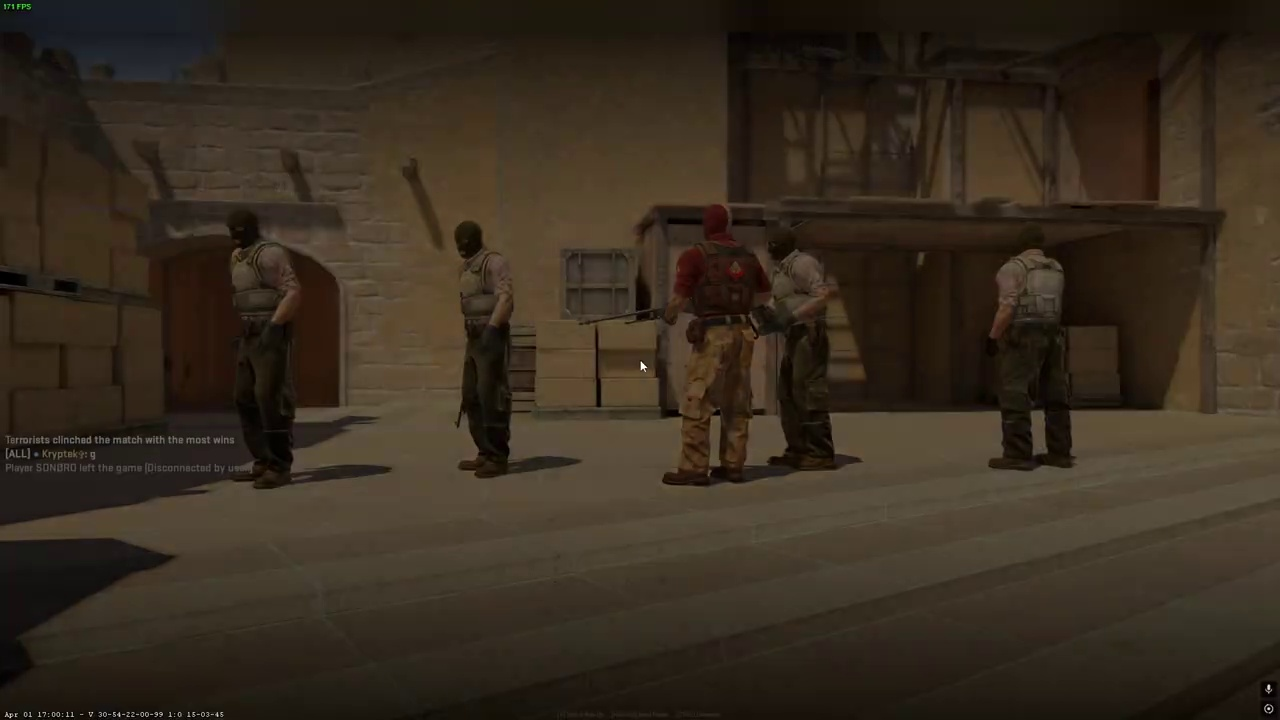Terrorist: (657, 205, 770, 489), (980, 221, 1088, 476), (217, 204, 306, 491), (440, 219, 527, 479), (758, 224, 845, 473)
